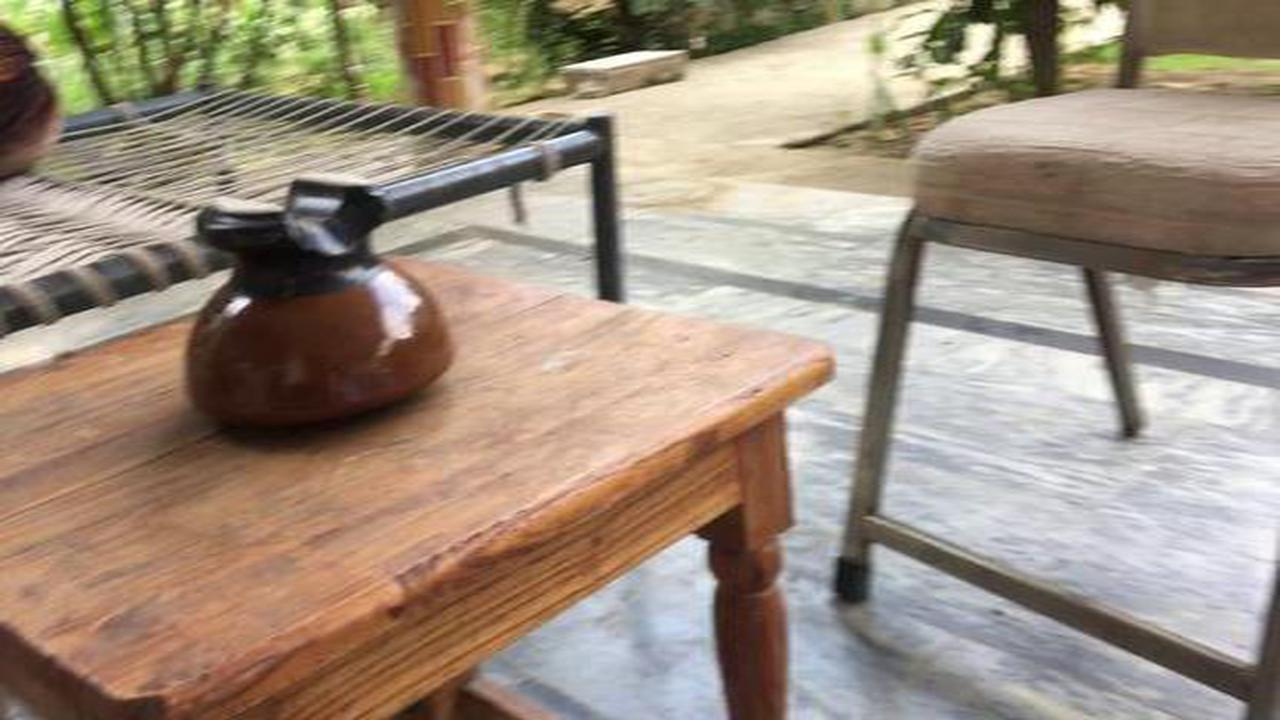insulator_pin: (173, 165, 465, 445)
